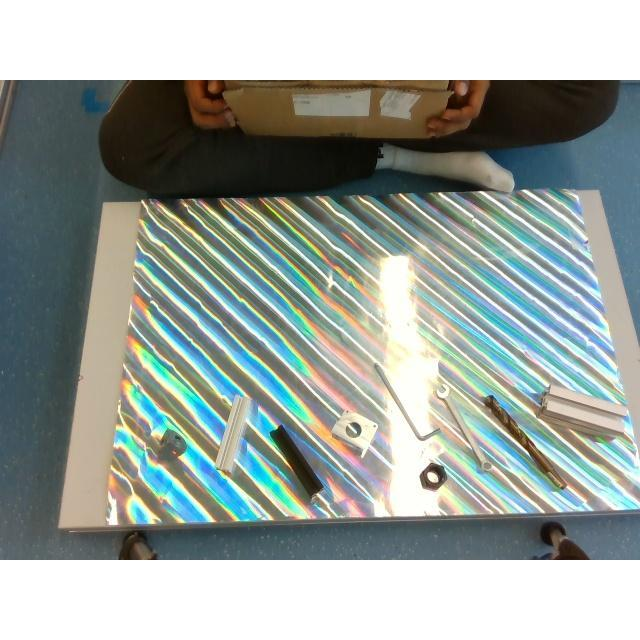Drill: (482, 395, 566, 489)
F20_20_B: (270, 426, 322, 498)
F20_20_G: (215, 394, 252, 474)
M20: (419, 462, 447, 490)
S40_40_G: (536, 384, 628, 438)
